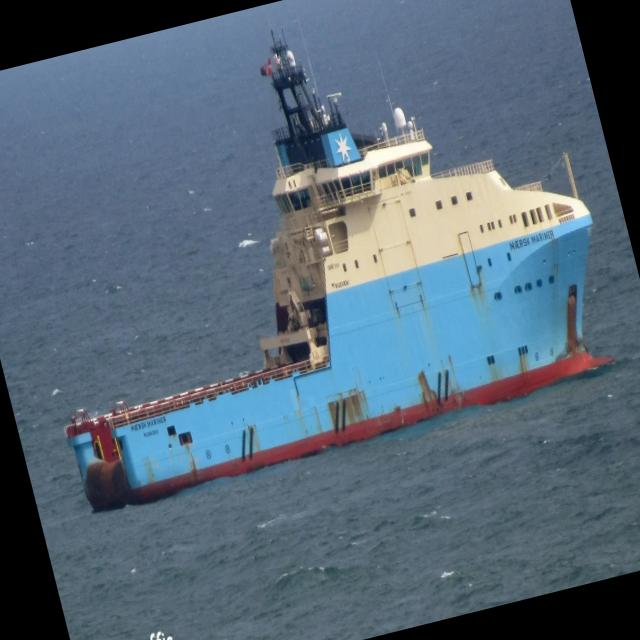Offshore: (64, 33, 609, 510)
